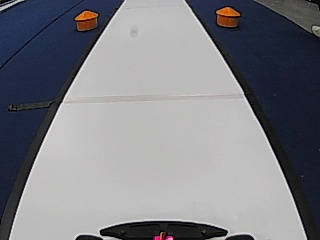granary: (215, 5, 241, 28), (73, 8, 99, 31)
